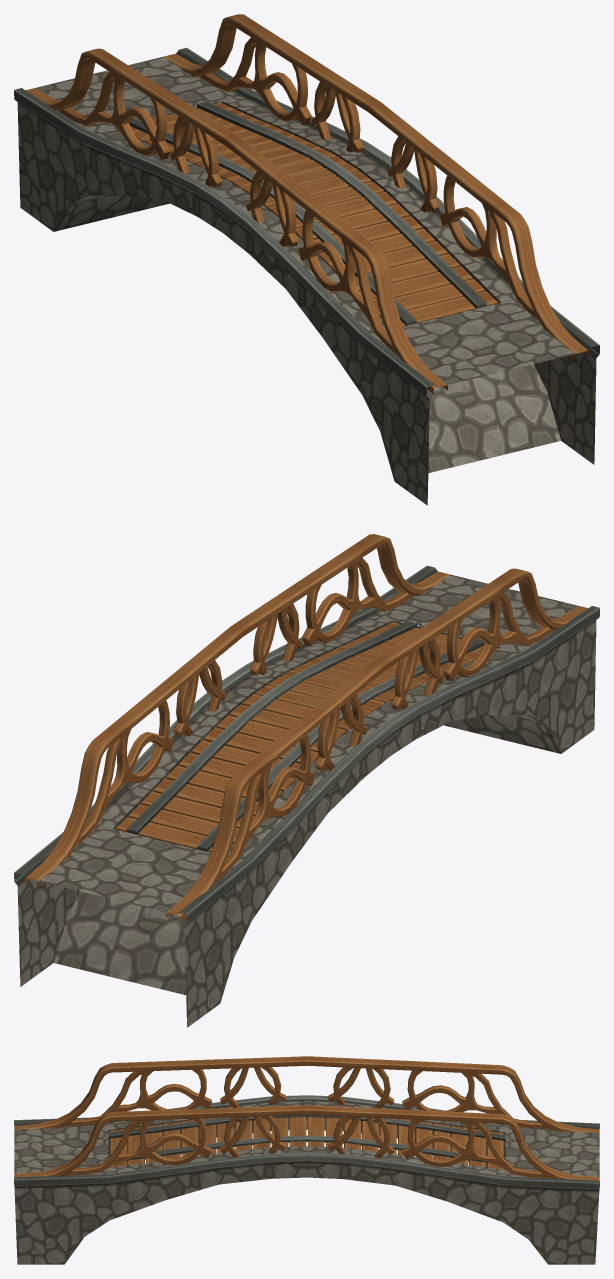
File: ElegantBridge.FBX
3 renders of one model, top to bottom at view 1: azimuth 30°, elevation 25°; view 2: azimuth 150°, elevation 25°; view 3: azimuth 270°, elevation 25°, orthographic. The views are drawn at different scales.
Visible parts, largest first — view 1: Box003; view 2: Box003; view 3: Box003.
Boxes of the visible parts, <box> form: Box003: <box>14,14,599,505</box>; Box003: <box>14,534,599,1027</box>; Box003: <box>14,1056,599,1264</box>.
Bounding box in the file's own units: 1877 × 2228 × 7760.
